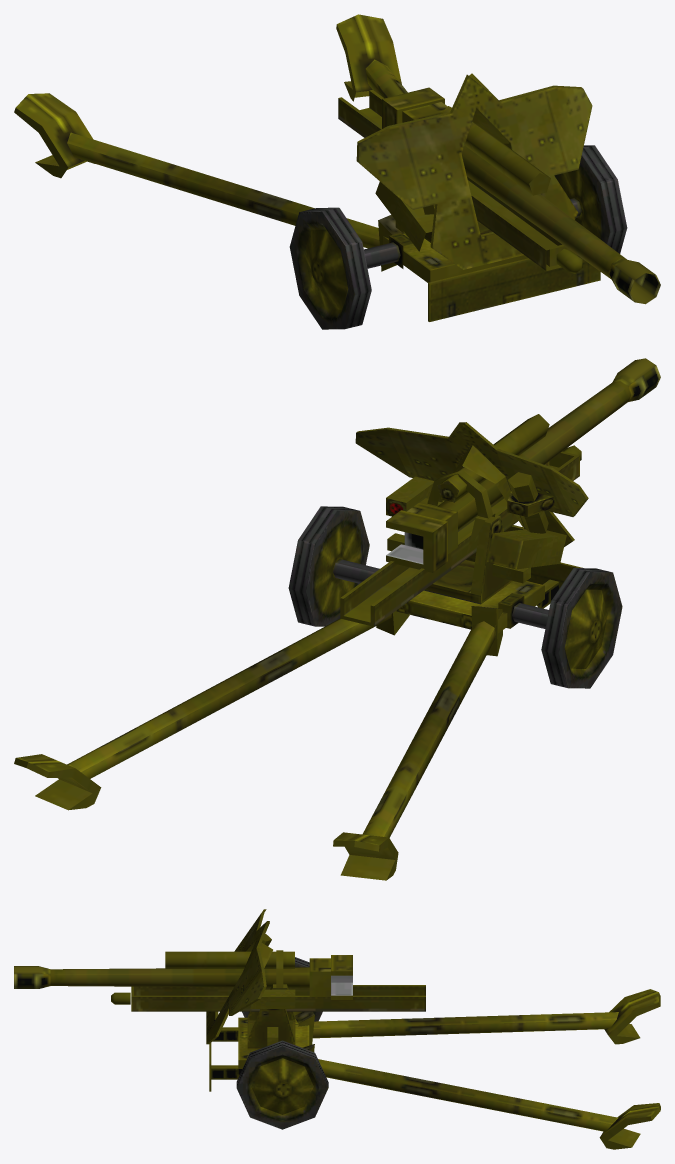
File: HUNleFH18.dae
3 renders of one model, top to bottom at view 1: azimuth 30°, elevation 25°; view 2: azimuth 150°, elevation 25°; view 3: azimuth 270°, elevation 25°, orthographic. The views are drawn at different scales.
Parts seen in each view (by area): view 1: carriage, wheels, barrel, sleeve; view 2: carriage, wheels, barrel, sleeve; view 3: carriage, sleeve, barrel, wheels.
Part boxes in pixels (x1,y1,x2,y2): carriage: (14, 14, 600, 321); wheels: (289, 145, 627, 329); barrel: (382, 87, 660, 304); sleeve: (338, 90, 582, 273); carriage: (14, 422, 588, 880); wheels: (288, 506, 622, 688); barrel: (386, 358, 660, 572); sleeve: (340, 414, 581, 626); carriage: (206, 909, 660, 1149); sleeve: (111, 950, 425, 1011); barrel: (14, 955, 352, 999); wheels: (236, 957, 328, 1129).
Size of the model in its own units: 21.48 by 46.12 by 13.29.
